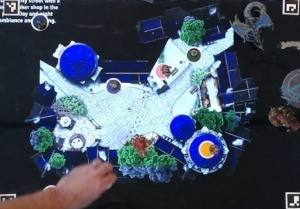blue: (27, 12, 48, 32)
green: (183, 45, 203, 66)
pink: (154, 61, 173, 81)
violet: (103, 73, 125, 97)
yellow: (197, 137, 219, 158)
